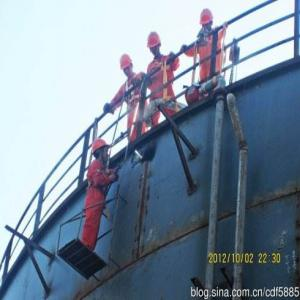red: (91, 138, 111, 164), (147, 31, 164, 60), (119, 54, 135, 80), (199, 7, 215, 33)
